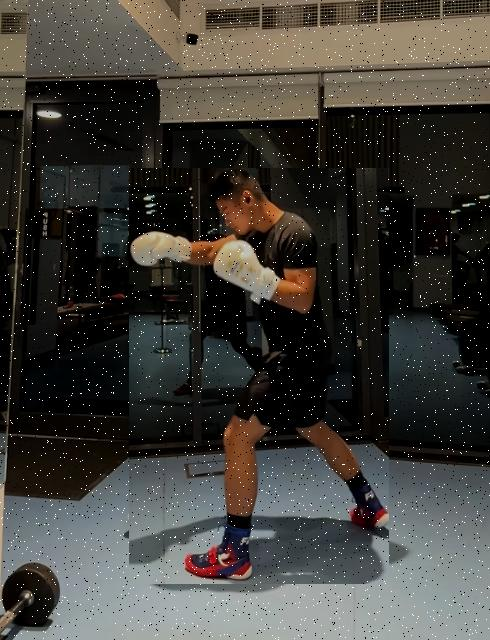punch: (129, 168, 389, 584)
